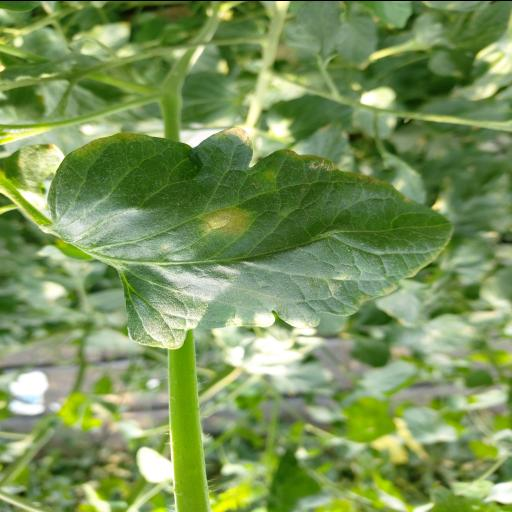disease_tomato: (48, 126, 452, 348)
